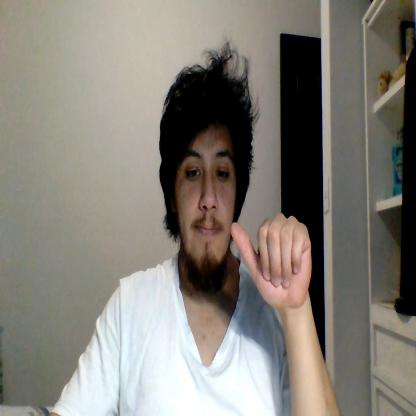A: (231, 211, 312, 309)
